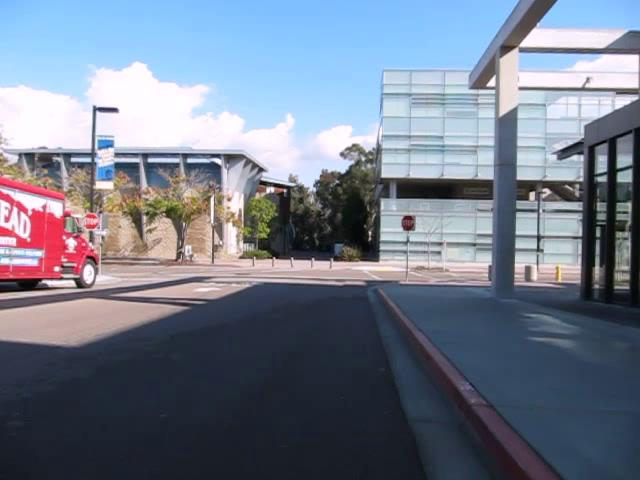stop: (401, 214, 415, 231)
